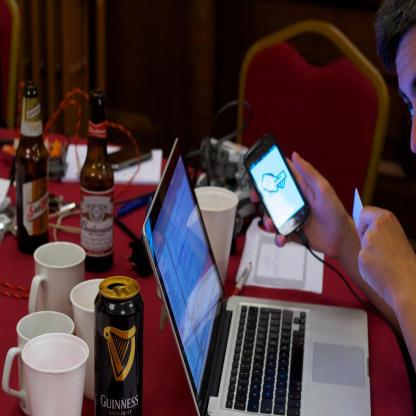board: (141, 133, 366, 416), (93, 275, 141, 416), (81, 88, 114, 272), (70, 277, 120, 397), (23, 331, 89, 416), (16, 82, 48, 254), (194, 186, 238, 290)
